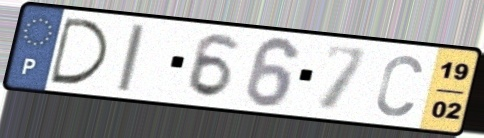6: (242, 35, 302, 110), (183, 32, 241, 100)
7: (316, 43, 369, 113)
C: (373, 52, 426, 119)
D: (47, 15, 112, 87)
I: (114, 21, 148, 94)
